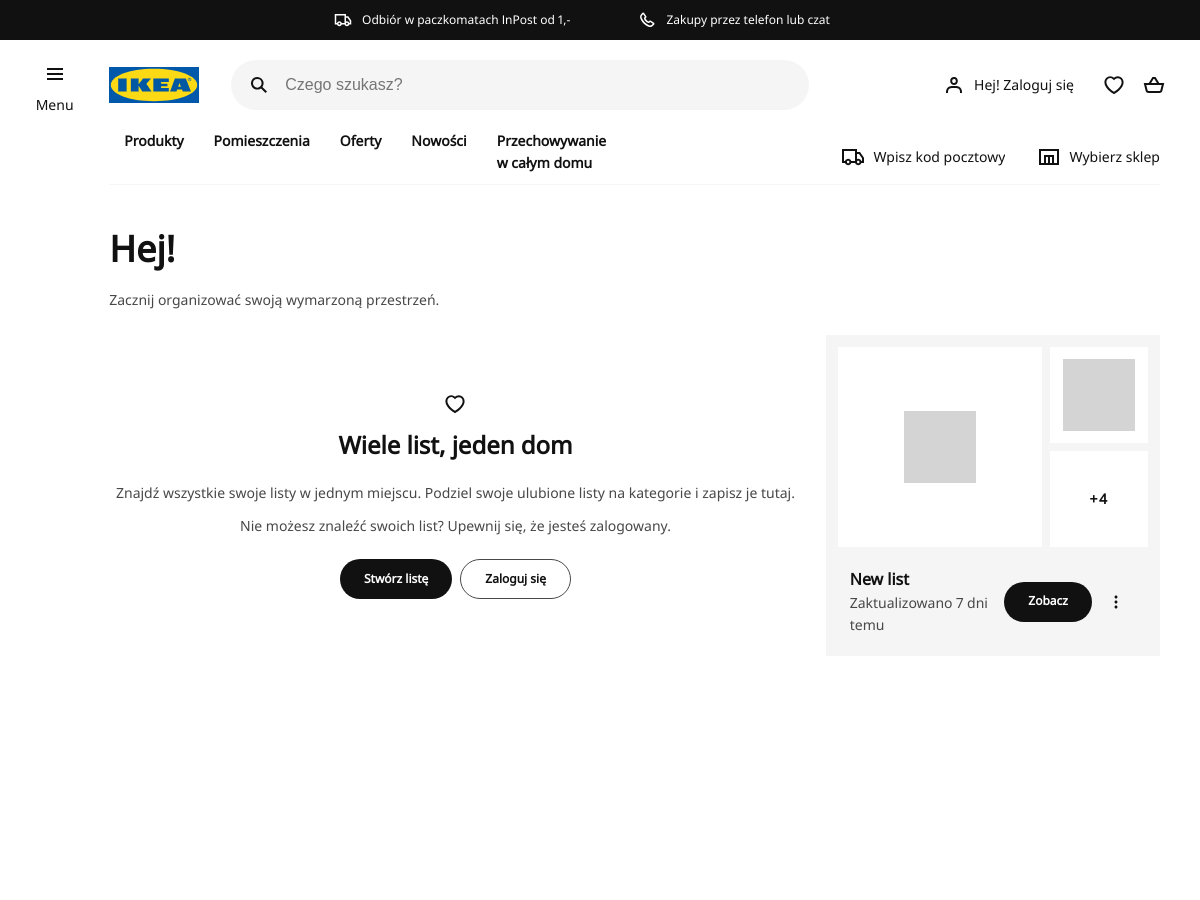
Test case: Lists Page › should render page with one list
The image size is (1200, 900).
Step 1. Click the button with test id "main-list-control-menu-btn" → (1116, 602), box [1096,582,1136,622]
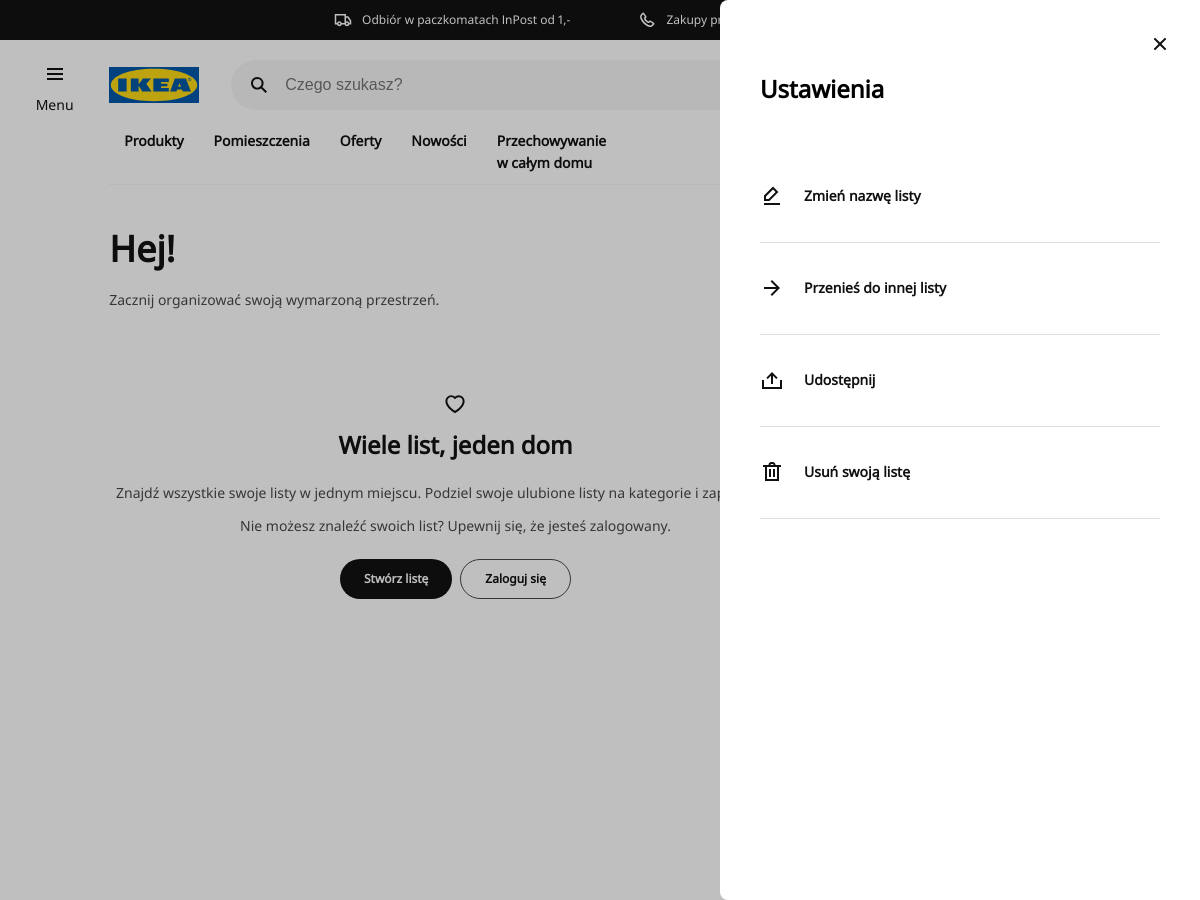
Expected: the dialog with test id "modal" is shown, [720,0,1199,899]
Step 2. Press Esc
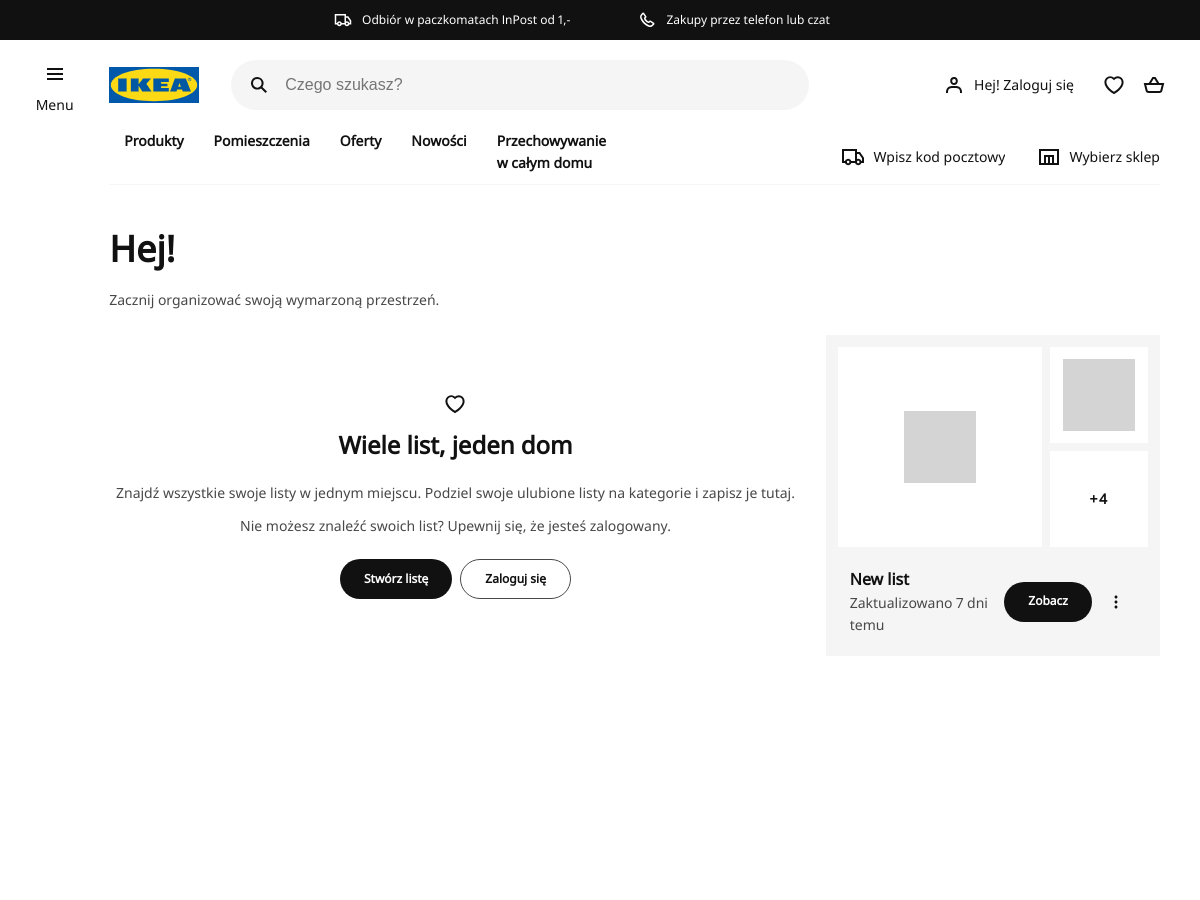
Expected: the dialog with test id "modal" is gone
